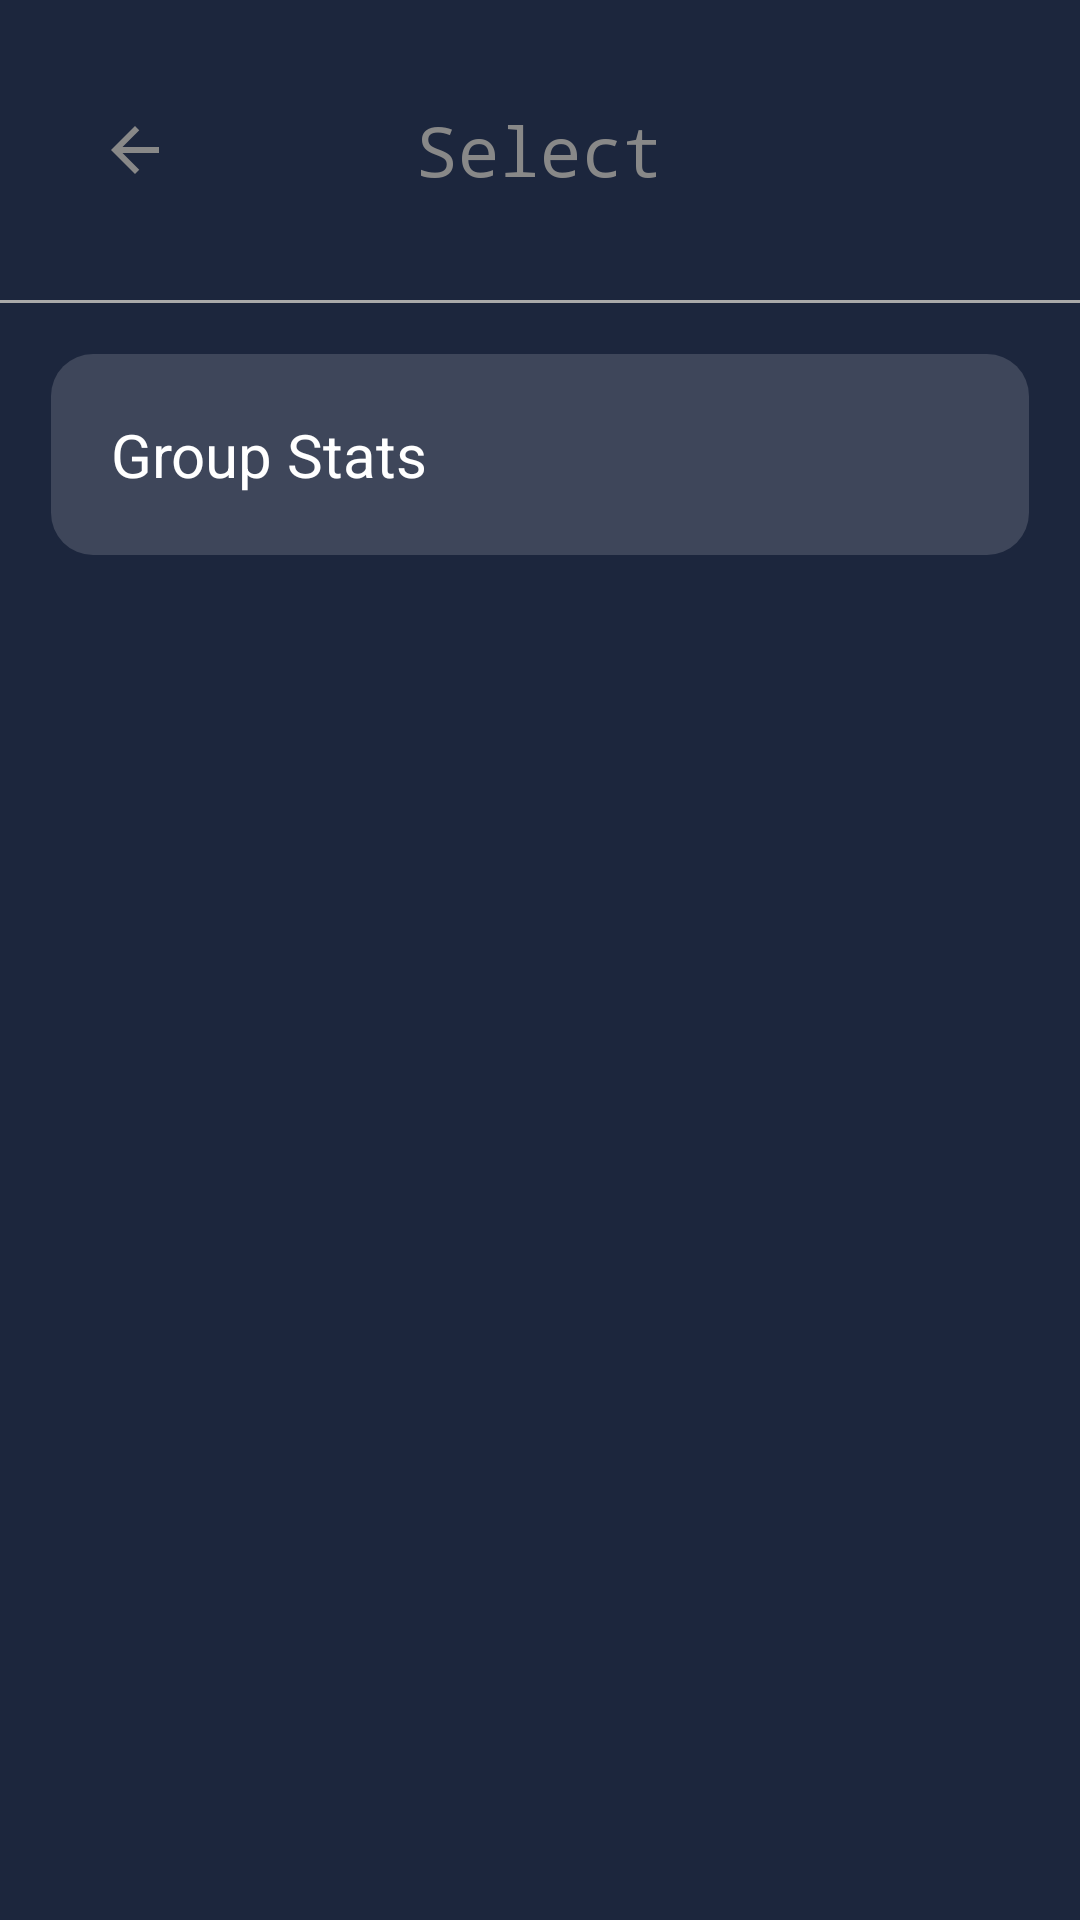

Named icons in this screenshot (1080*1920) and their bounding boxes, (x1, y1, x2, y2):
arrow back: (111, 126, 159, 174)
